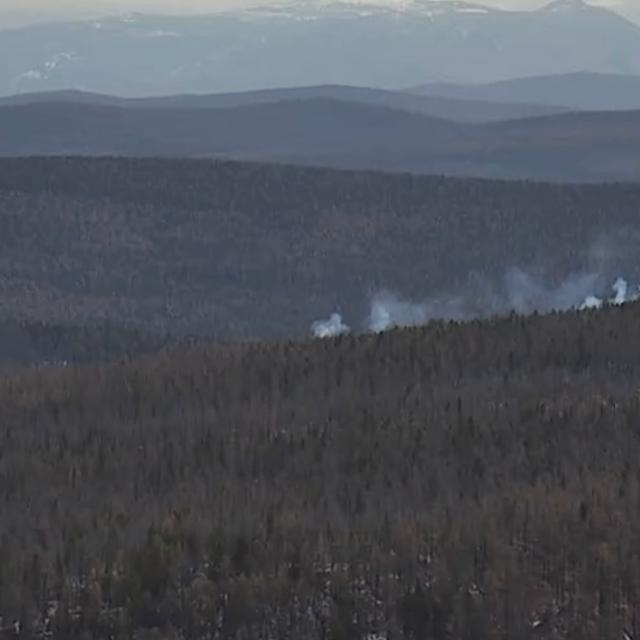Smoke: (305, 236, 640, 344)
